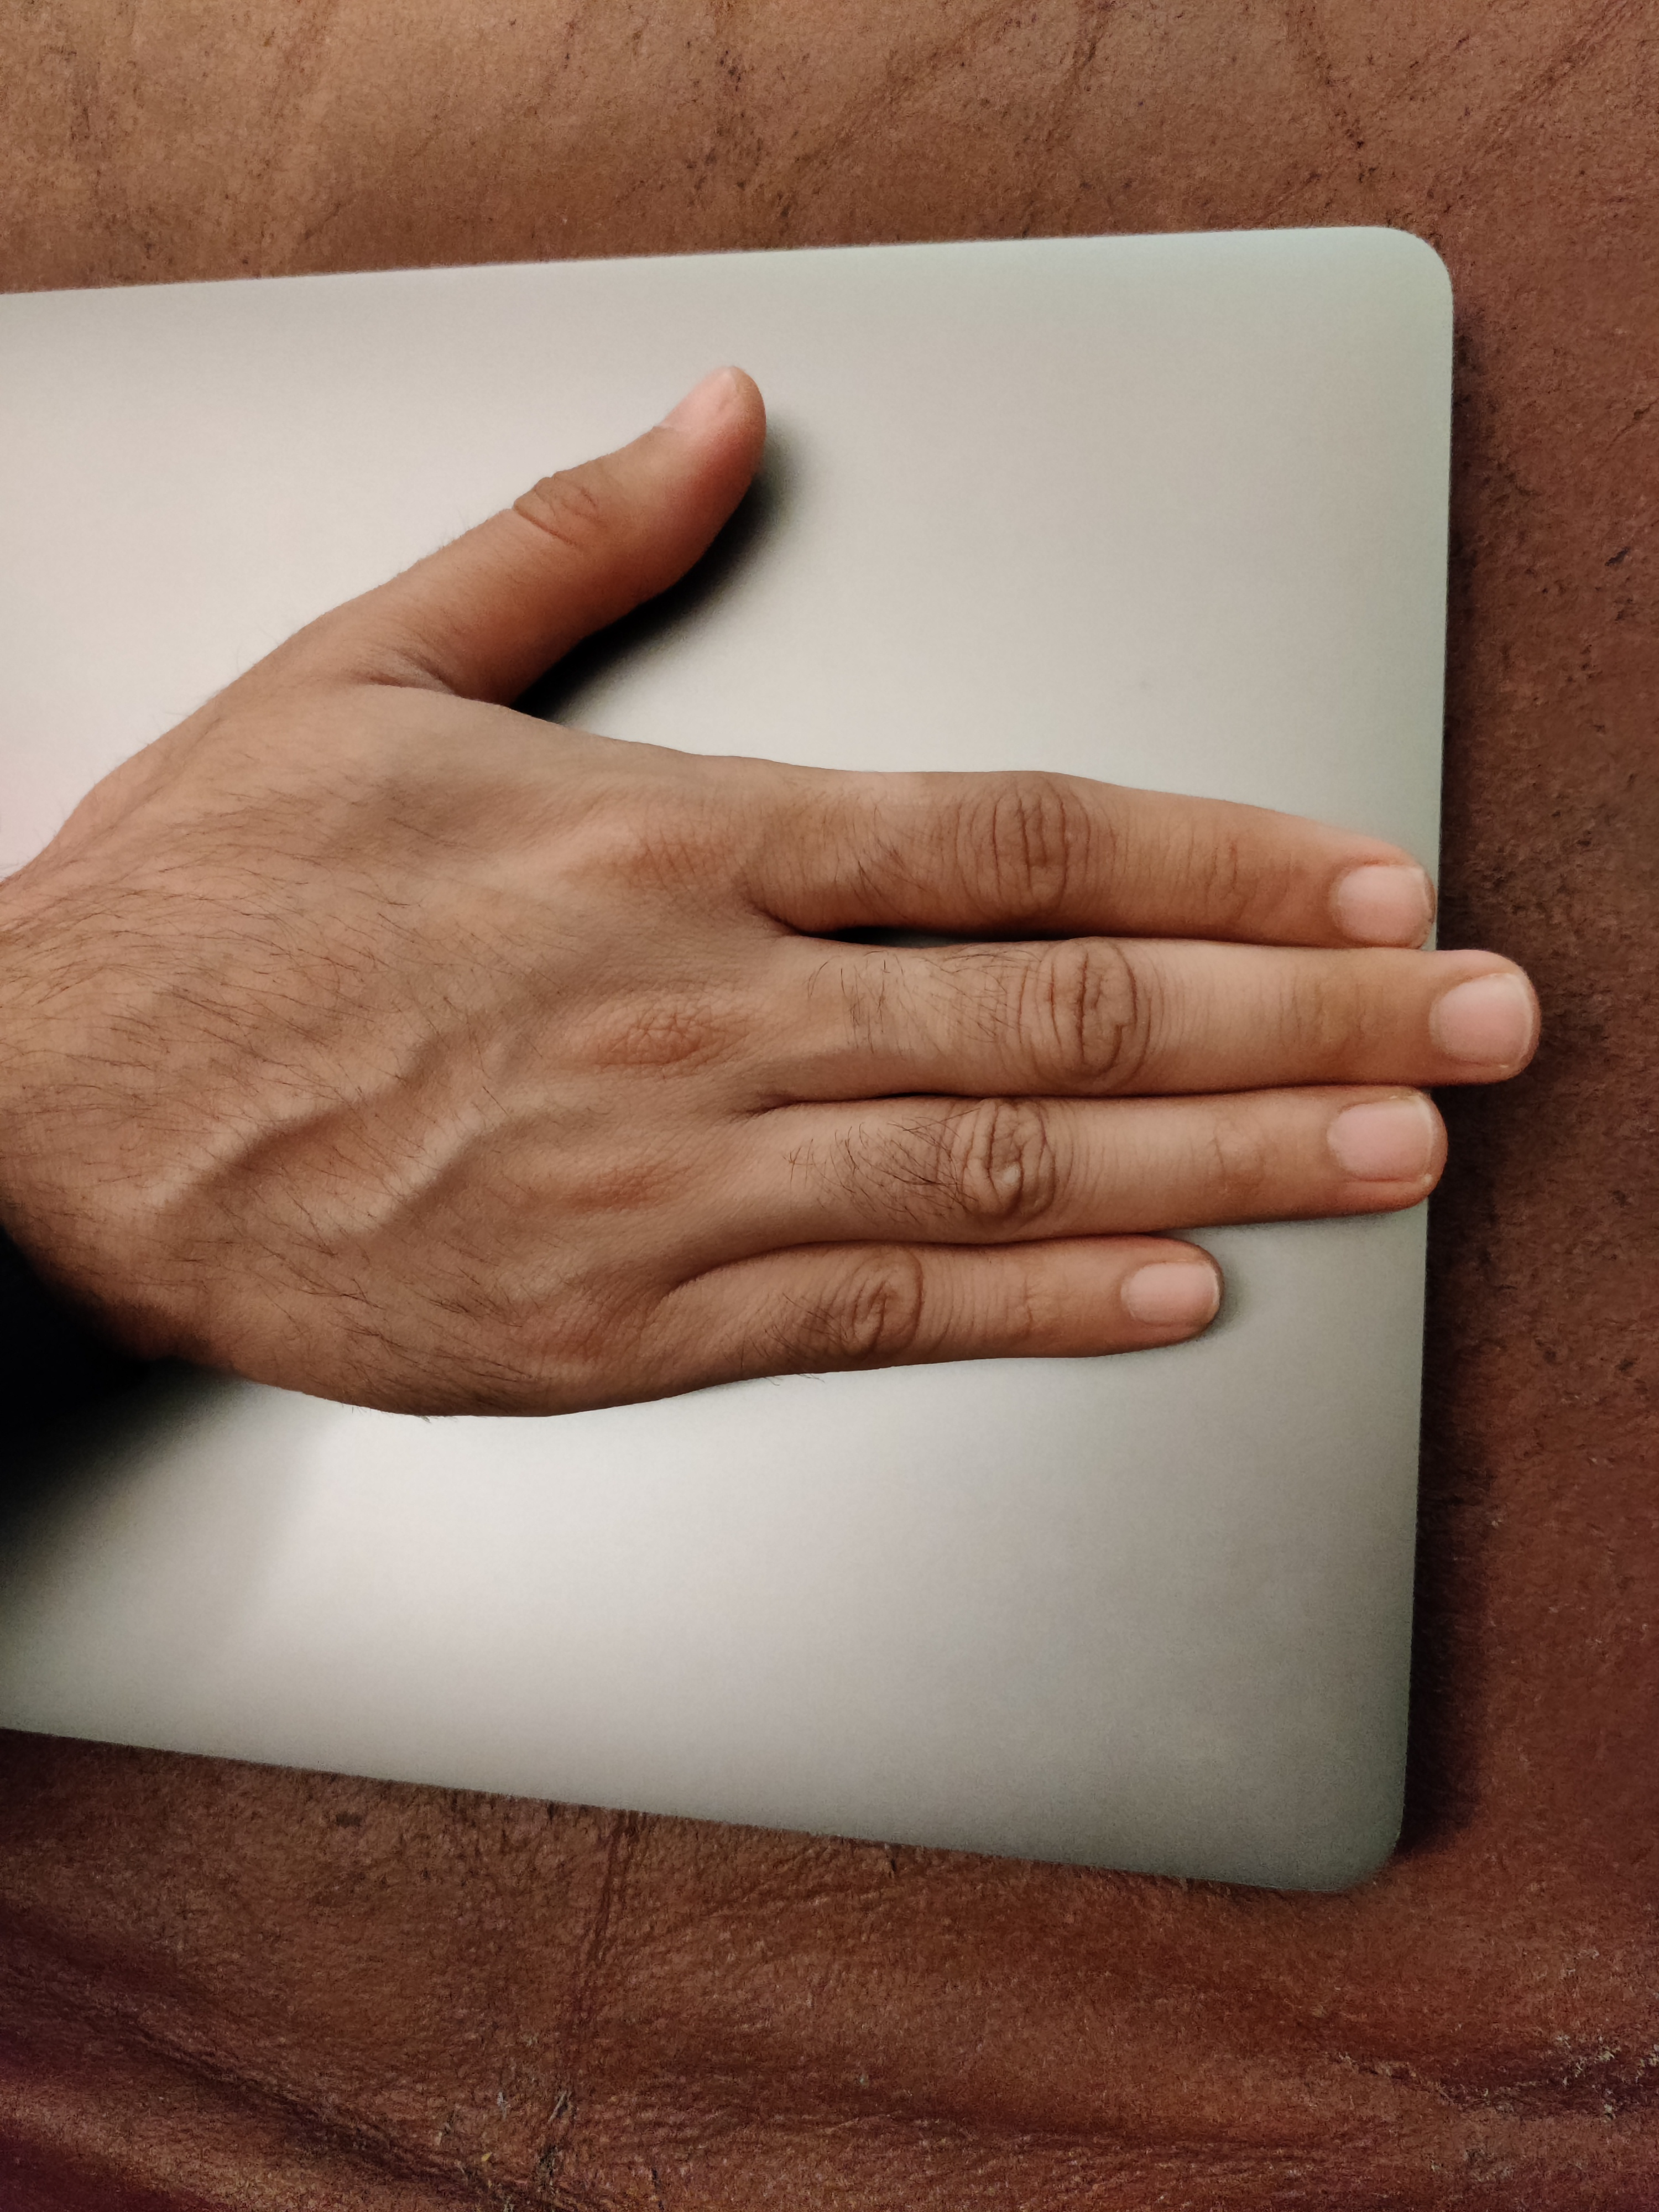left: (5, 185, 1593, 1547)
